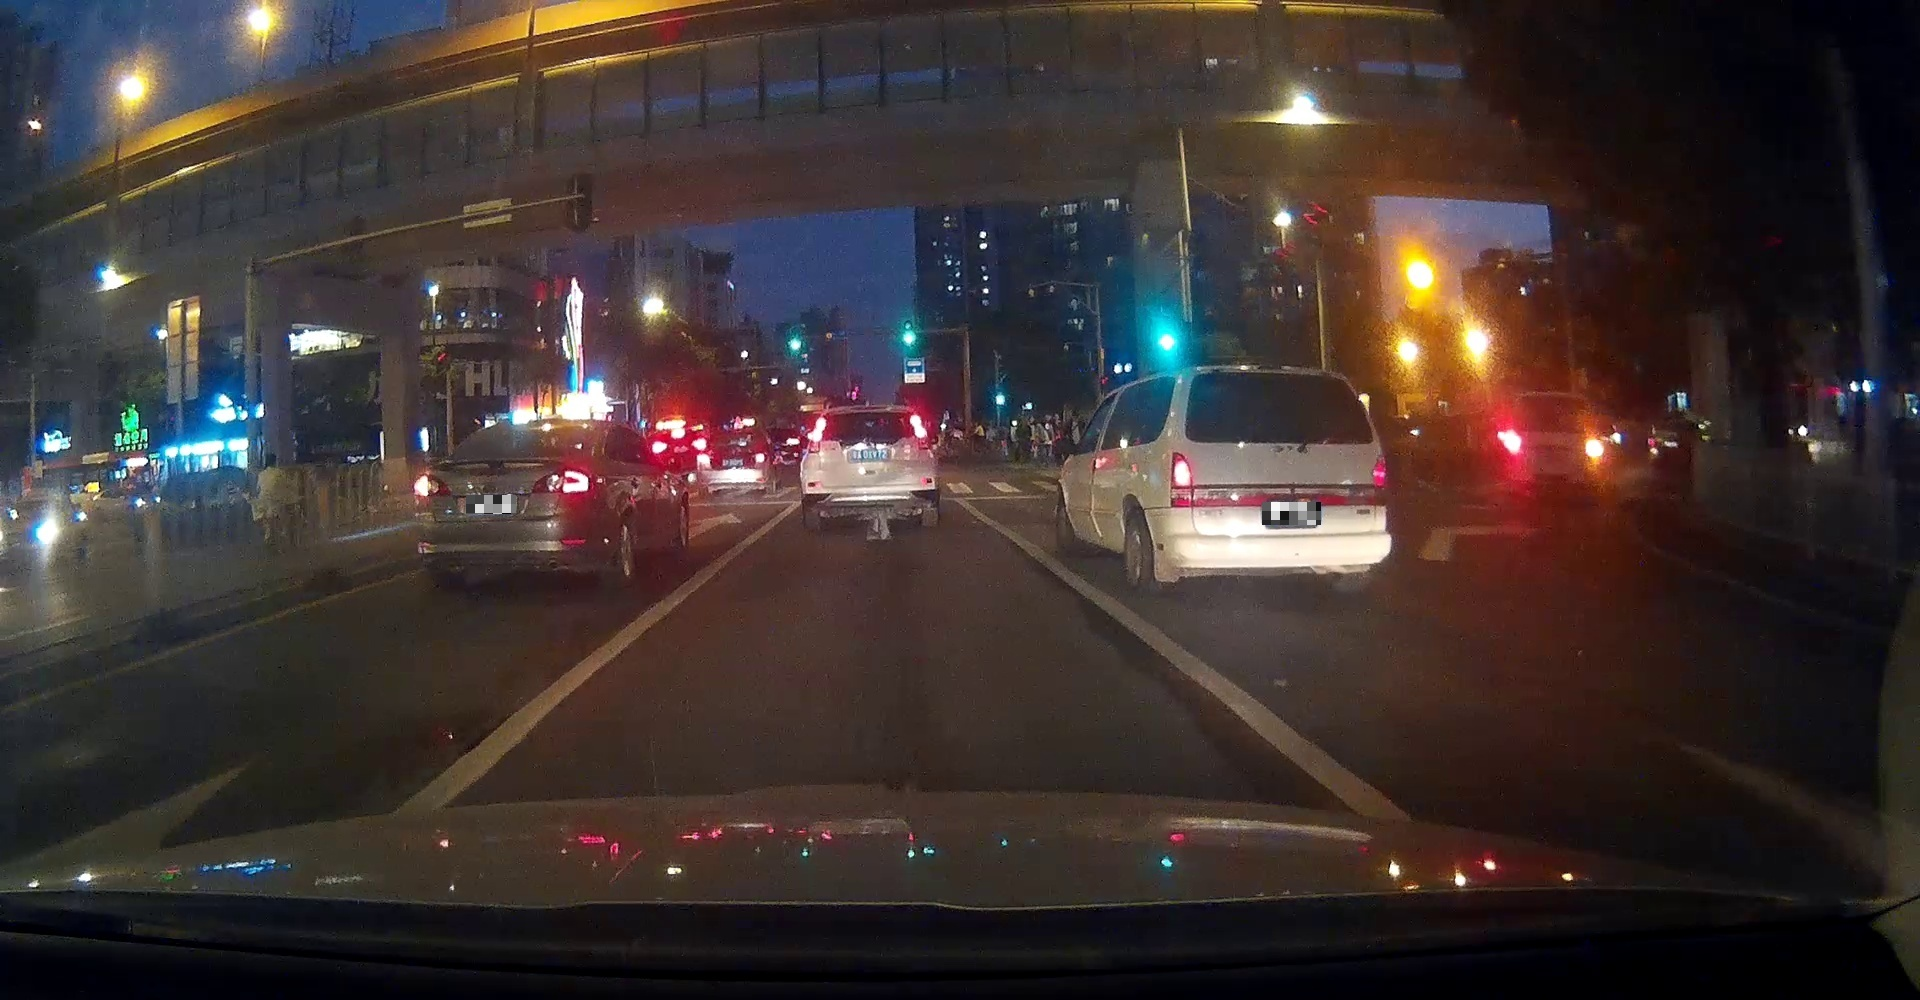L_light: (1171, 452, 1192, 508), (417, 475, 455, 497), (697, 453, 712, 466), (808, 440, 820, 453)
R_light: (533, 467, 593, 492), (1371, 456, 1388, 492), (750, 453, 766, 463), (916, 439, 930, 449)
T_light: (1260, 367, 1284, 374), (528, 426, 549, 434), (852, 406, 880, 410), (734, 431, 745, 437)
night-no: (1168, 365, 1392, 594), (414, 418, 599, 591), (799, 405, 937, 528), (696, 429, 772, 499)
plate_1: (466, 495, 516, 514)
plate_2: (1262, 503, 1321, 525)
